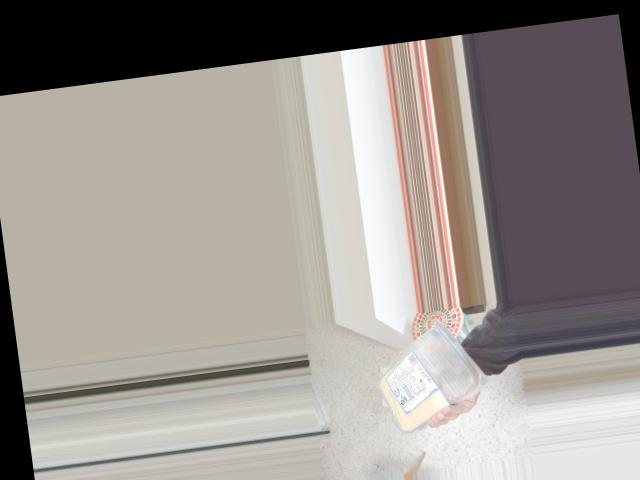cheese: (368, 323, 477, 422)
